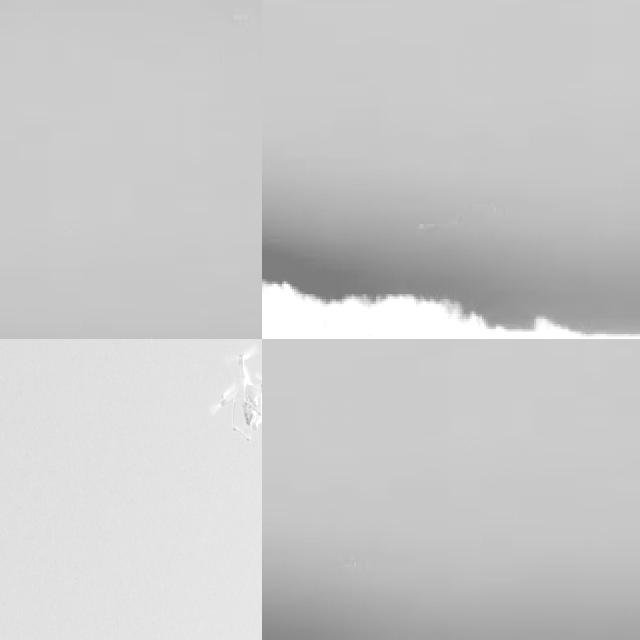0: (409, 214, 439, 244), (334, 555, 362, 587)
drone: (210, 346, 262, 443)
